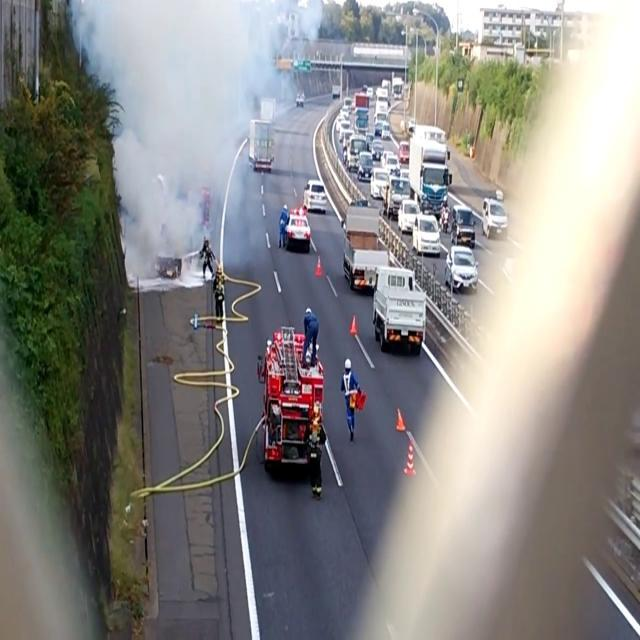Smoke: (72, 0, 312, 230)
